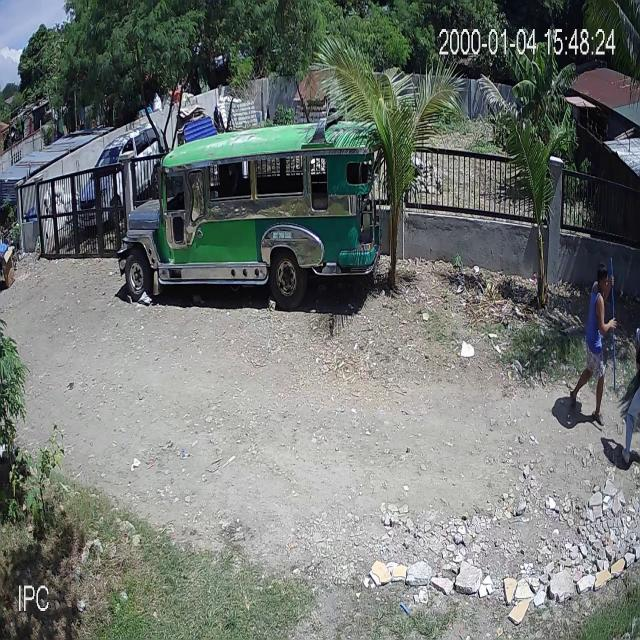running: (570, 262, 616, 427), (621, 326, 640, 464)
